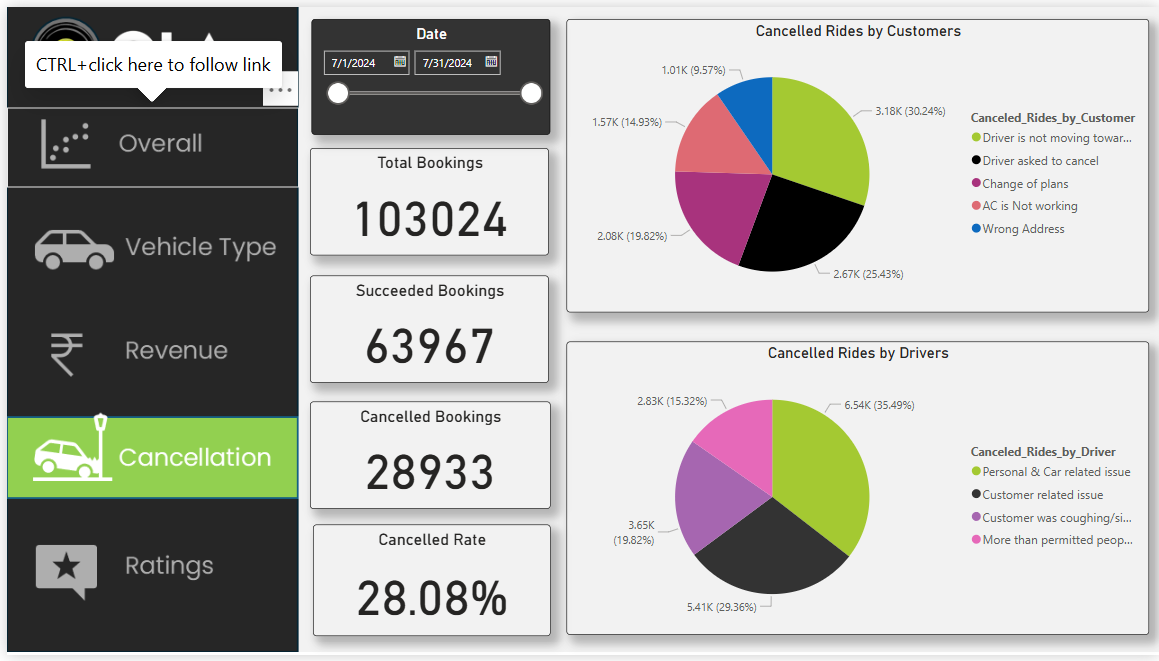

This screenshot's page, from the dashboard's own definition file:
{"tool":"powerbi","page":{"name":"Cancellation","canvas":[1280,720],"ordinal":3},"visuals":[{"type":"actionButton","box":[0,222.7,324.5,89.1],"z":0},{"type":"actionButton","box":[0,338.8,324.5,89.1],"z":1000},{"type":"actionButton","box":[0,111.3,324.5,89.1],"z":2000},{"type":"actionButton","box":[0,574.2,324.5,97],"z":3000},{"type":"pieChart","title":"Cancelled Rides by Customers","fields":{"Y":["CountNonNull(July.Canceled_Rides_by_Customer)"],"Category":["July.Canceled_Rides_by_Customer"]},"box":[621.9,12.7,647.4,326.1],"z":4000},{"type":"pieChart","title":"Cancelled Rides by Drivers","fields":{"Category":["July.Canceled_Rides_by_Driver"],"Y":["CountNonNull(July.Canceled_Rides_by_Driver)"]},"box":[621.9,372.2,647.4,326.1],"z":5000},{"type":"slicer","title":"Date","fields":{"Values":["July.Date"]},"box":[338.8,12.7,265.6,128.8],"z":6000},{"type":"card","title":"Total Bookings","fields":{"Values":["CountNonNull(July.Booking_ID)"]},"box":[337.2,155.9,265.6,119.3],"z":7000},{"type":"card","title":"Succeeded Bookings","fields":{"Values":["CountNonNull(July.Booking_ID)"]},"box":[337.2,299,265.6,119.3],"z":8000},{"type":"card","title":"Cancelled Bookings","fields":{"Values":["CountNonNull(July.Booking_ID)"]},"box":[337.2,439,267.2,119.3],"z":9000},{"type":"card","title":"Cancelled Rate","fields":{"Values":["July.CanceledBookingsCount"]},"box":[340.4,574.2,264,124.1],"z":10000}]}

Visuals, with their boxes on the page's 1280x720 design canvas (x1, y1, x2, y2). These are canvas units, not pixel positions in the 1159x661 screenshot, which may show the page scaled, cropped or inside an application window:
actionButton: 0/223/324/312
actionButton: 0/339/324/428
actionButton: 0/111/324/200
actionButton: 0/574/324/671
"Cancelled Rides by Customers" pieChart: 622/13/1269/339
"Cancelled Rides by Drivers" pieChart: 622/372/1269/698
"Date" slicer: 339/13/604/142
"Total Bookings" card: 337/156/603/275
"Succeeded Bookings" card: 337/299/603/418
"Cancelled Bookings" card: 337/439/604/558
"Cancelled Rate" card: 340/574/604/698
